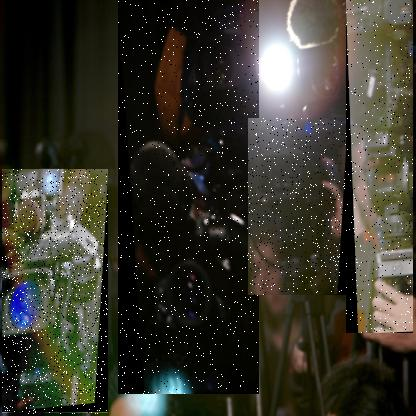Camera: (119, 1, 261, 396), (3, 171, 110, 416), (347, 1, 415, 335), (249, 119, 349, 297)
